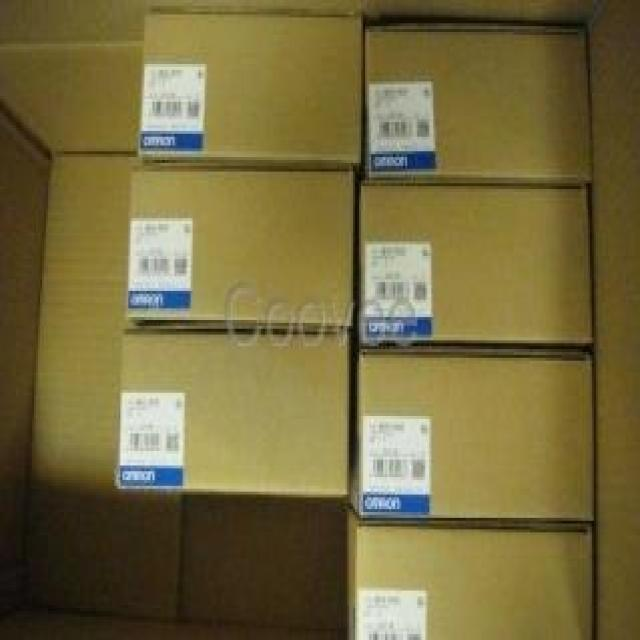box: (357, 355, 592, 524), (124, 166, 355, 332), (116, 332, 351, 495), (359, 183, 592, 343), (365, 29, 594, 180), (136, 15, 363, 163), (347, 515, 594, 640)
